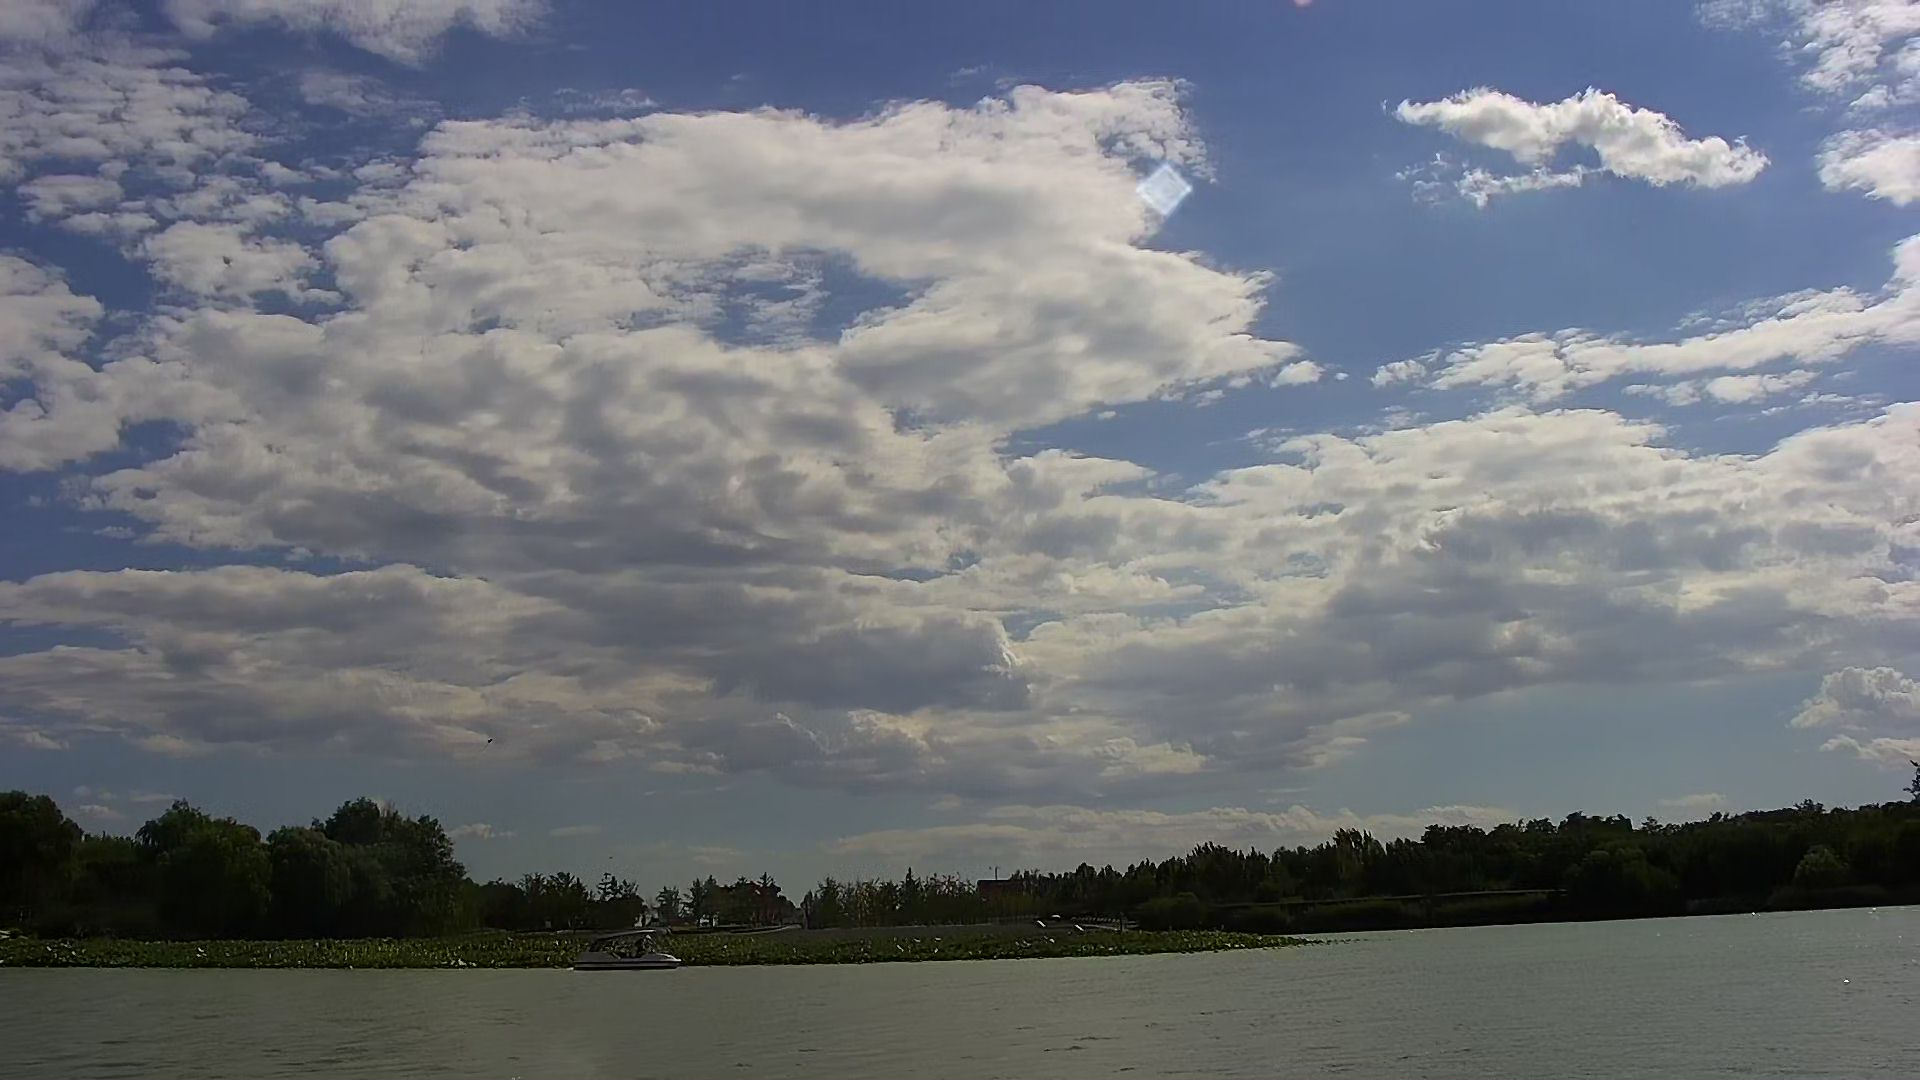grass: (1, 934, 1344, 972)
